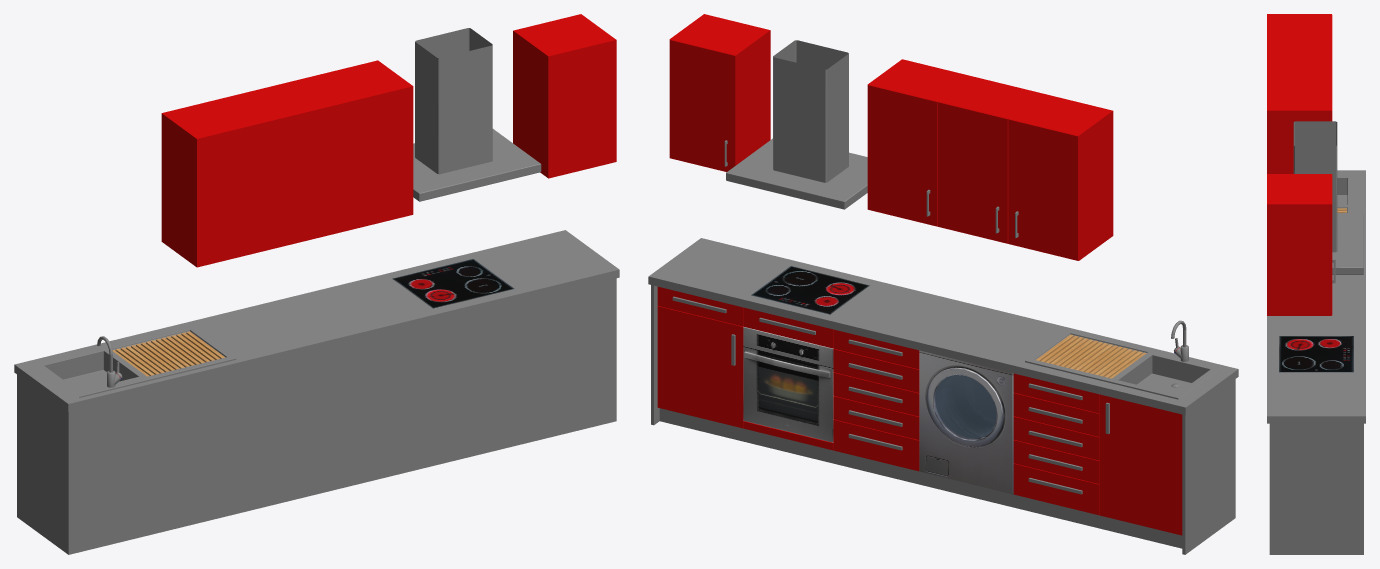
Rendered from Kitchen01.fbx.
3 renders of one model, left to right at view 1: azimuth 30°, elevation 25°; view 2: azimuth 150°, elevation 25°; view 3: azimuth 270°, elevation 25°, orthographic. The views are drawn at different scales.
Visible parts, largest first — view 1: Metal02_, Red_, Ceramic_hob, Wood_; view 2: Red_, Metal02_, Washing_machine, Oven, Ceramic_hob, Crystal_, Wood_; view 3: Metal02_, Red_, Ceramic_hob.
Boxes of the visible parts, <box> form: Metal02_: <box>14,28,619,554</box>; Red_: <box>116,14,616,377</box>; Ceramic_hob: <box>392,259,514,308</box>; Wood_: <box>112,331,225,376</box>; Red_: <box>657,14,1182,535</box>; Metal02_: <box>648,40,1238,554</box>; Washing_machine: <box>919,350,1013,494</box>; Oven: <box>743,327,833,442</box>; Ceramic_hob: <box>751,266,869,314</box>; Crystal_: <box>935,374,996,438</box>; Wood_: <box>1036,334,1146,378</box>; Metal02_: <box>1267,121,1365,554</box>; Red_: <box>1267,14,1332,315</box>; Ceramic_hob: <box>1279,336,1353,372</box>.
Size of the model in its own units: 3.6 by 2.45 by 0.6112.
